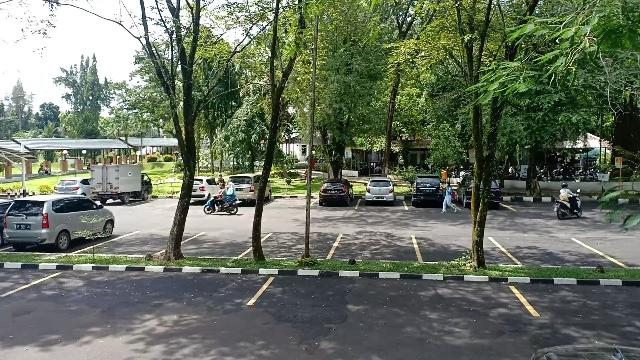empty: (255, 270, 535, 310), (11, 271, 271, 311), (494, 232, 604, 266), (414, 232, 512, 264), (333, 232, 417, 262), (260, 232, 342, 258), (108, 225, 170, 255), (182, 232, 252, 258), (266, 190, 316, 209)
occupied: (0, 194, 116, 253), (312, 183, 361, 207), (358, 184, 404, 208)
